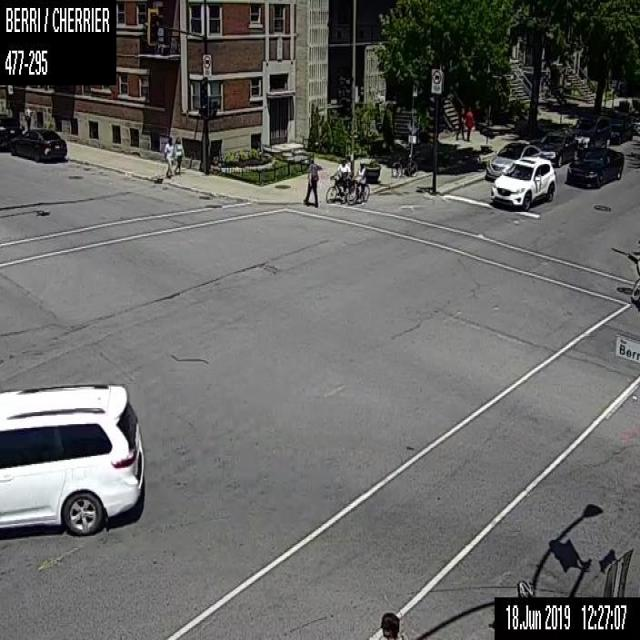cyclist: (326, 158, 355, 202), (346, 160, 369, 203)
pedestrian: (370, 610, 405, 638), (304, 157, 318, 205), (172, 135, 184, 177), (163, 135, 174, 176), (464, 107, 474, 139), (455, 107, 465, 139)
vehicle: (0, 382, 144, 534), (489, 156, 555, 210), (566, 147, 624, 188), (486, 141, 543, 181), (9, 127, 67, 160), (538, 133, 577, 166), (572, 115, 609, 149), (0, 117, 22, 151), (609, 113, 631, 144)
